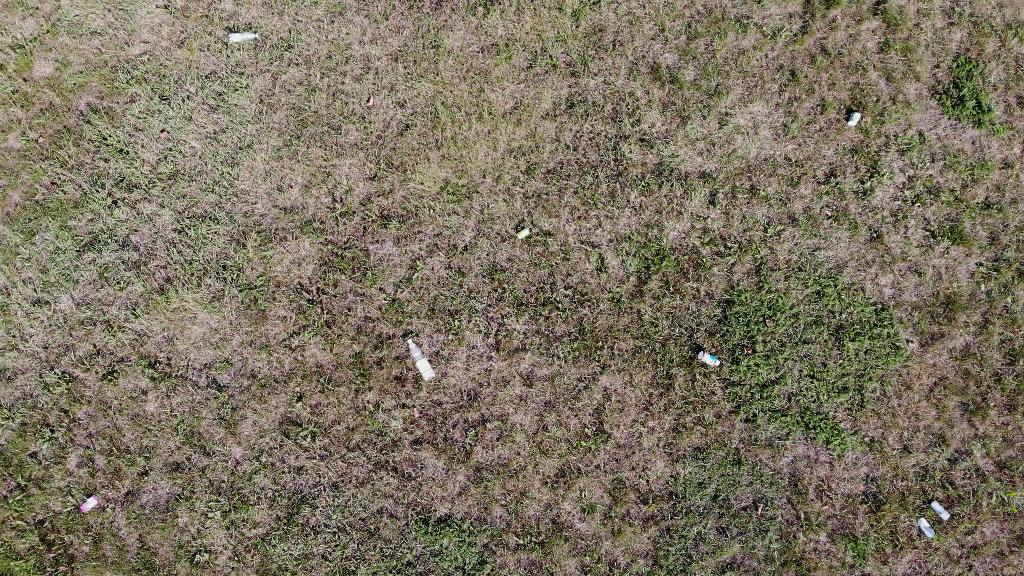garbage: (405, 337, 436, 382), (227, 30, 258, 47), (932, 500, 951, 524), (917, 517, 936, 541)
